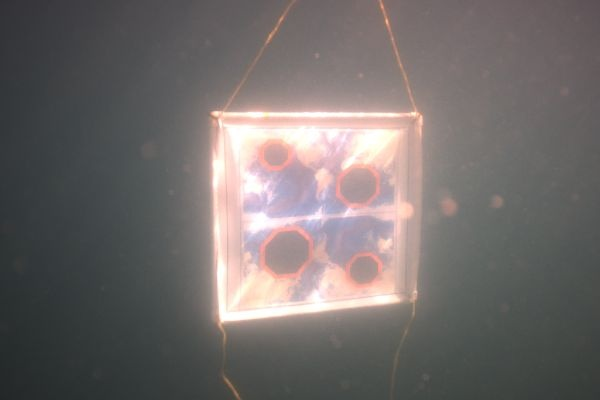torpille: (210, 111, 424, 323)
torpille_target: (261, 228, 313, 278), (335, 164, 378, 206), (346, 254, 382, 288), (260, 140, 290, 170)
